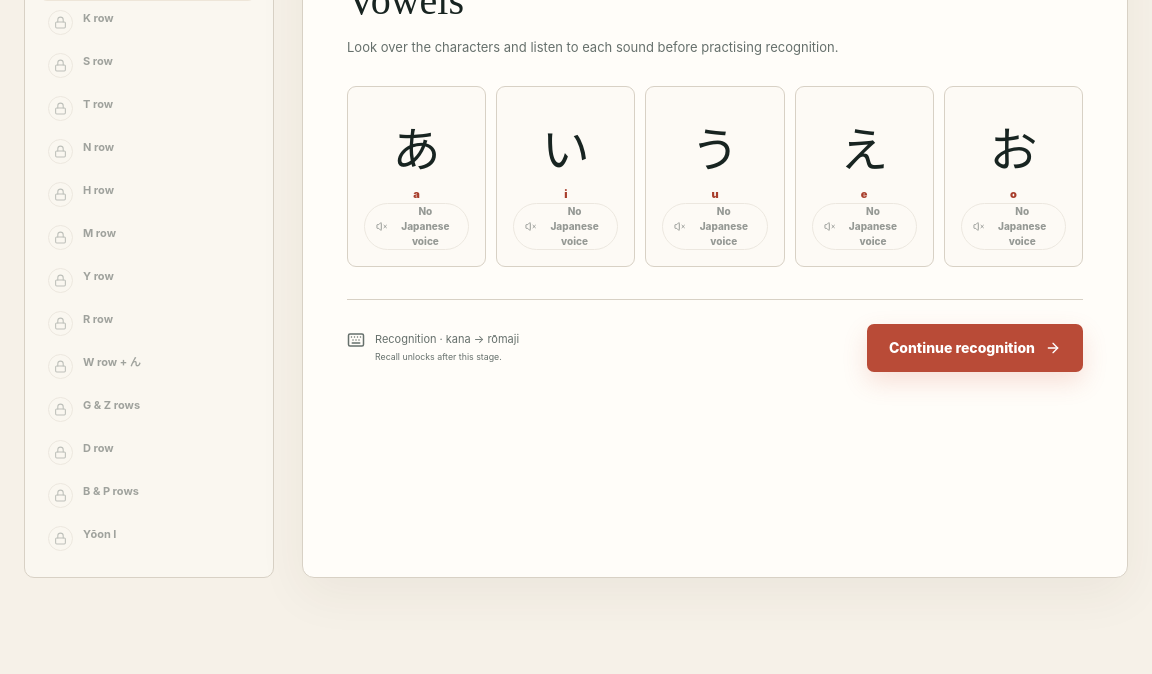
Test: KanaLearningView cloud saves › uses typed recognition without offering speech input
The image size is (1152, 674).
(page scrolled)
Click the button "Continue recognition" at (975, 348), box top-left (867, 324), bottom-right (1083, 372)
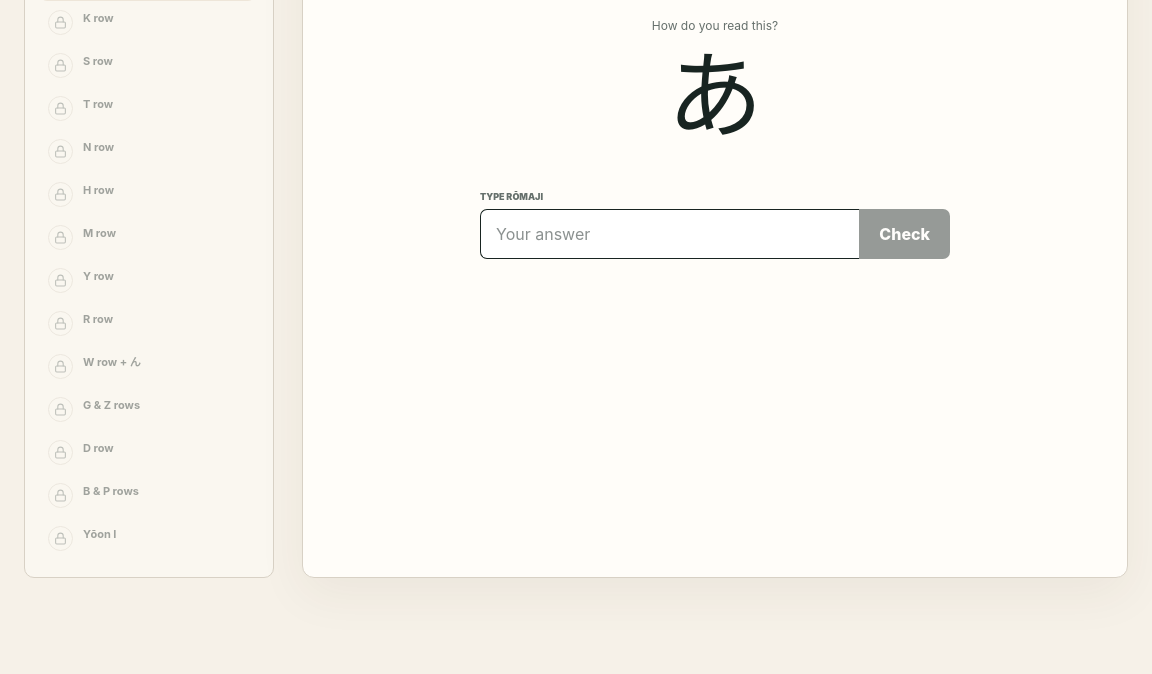
Result: the field labelled "Type rōmaji" is shown at top-left (480, 210), bottom-right (859, 260)
